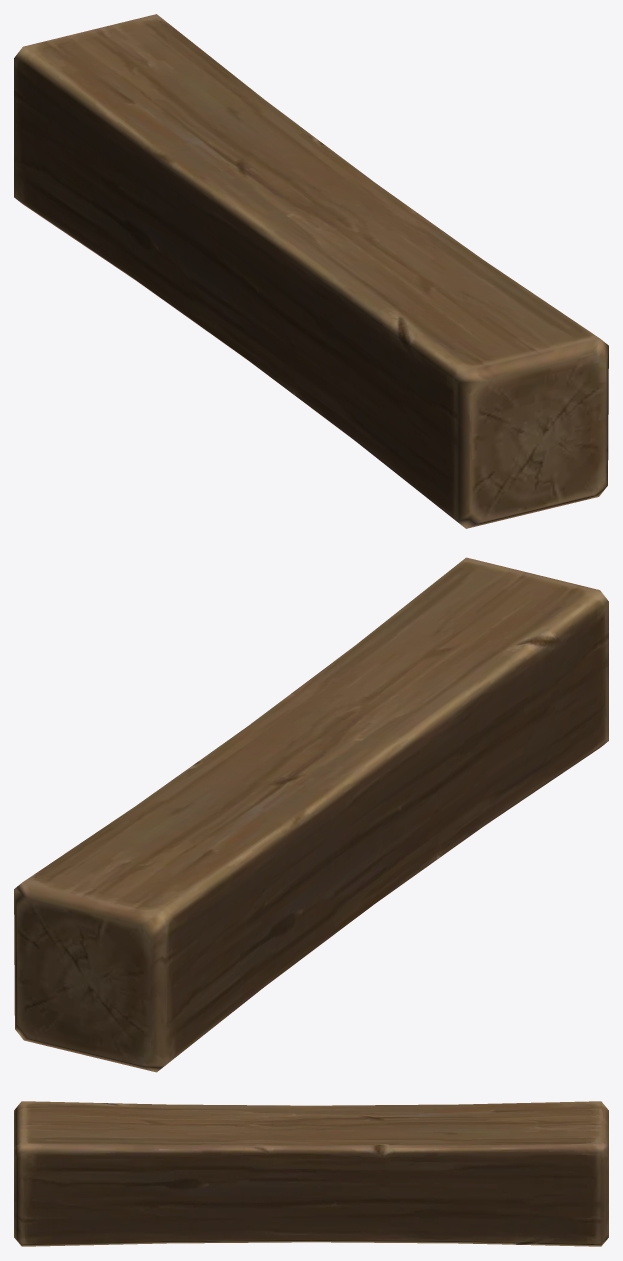
3 views of the same model, one above another, from view 1: azimuth 30°, elevation 25°; view 2: azimuth 150°, elevation 25°; view 3: azimuth 270°, elevation 25° (orthographic). The views are drawn at different scales.
Size of the model in its own units: 0.9932 by 0.9898 by 5.17.
Materials: 1 (1 with a texture image).
